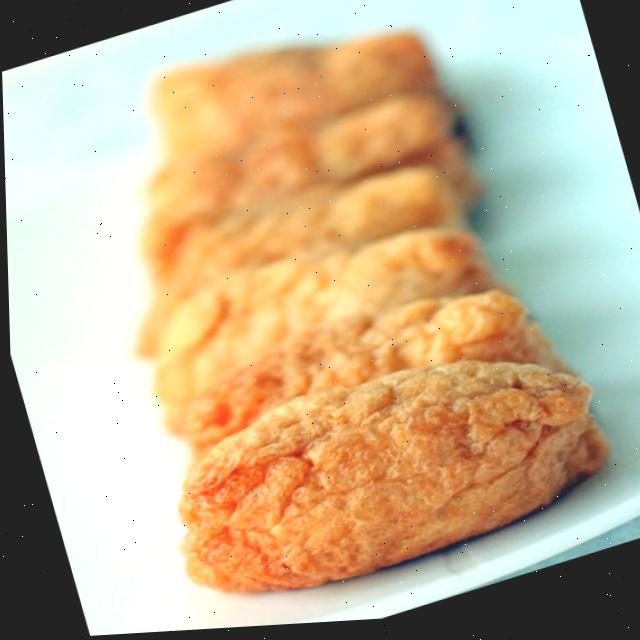寿司卷物: (39, 0, 636, 638)
